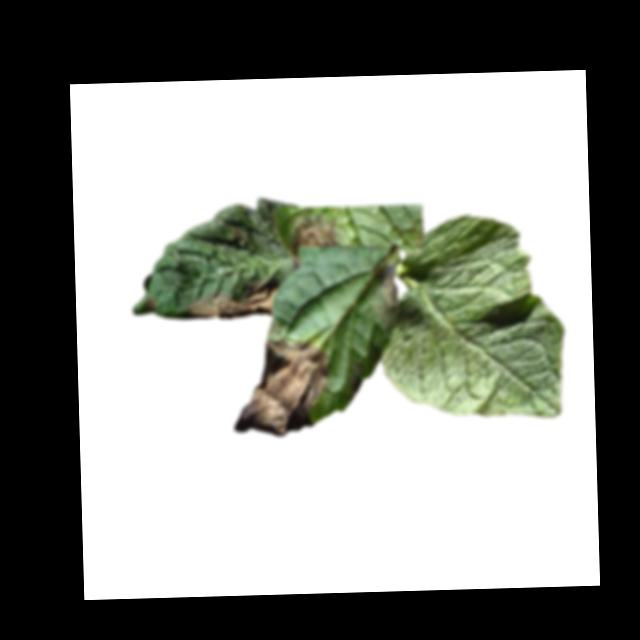Late_blight: (231, 334, 332, 438), (185, 280, 280, 321), (288, 215, 339, 269), (374, 258, 403, 319), (349, 362, 364, 400), (144, 295, 158, 312)
healthy: (378, 214, 568, 423)
